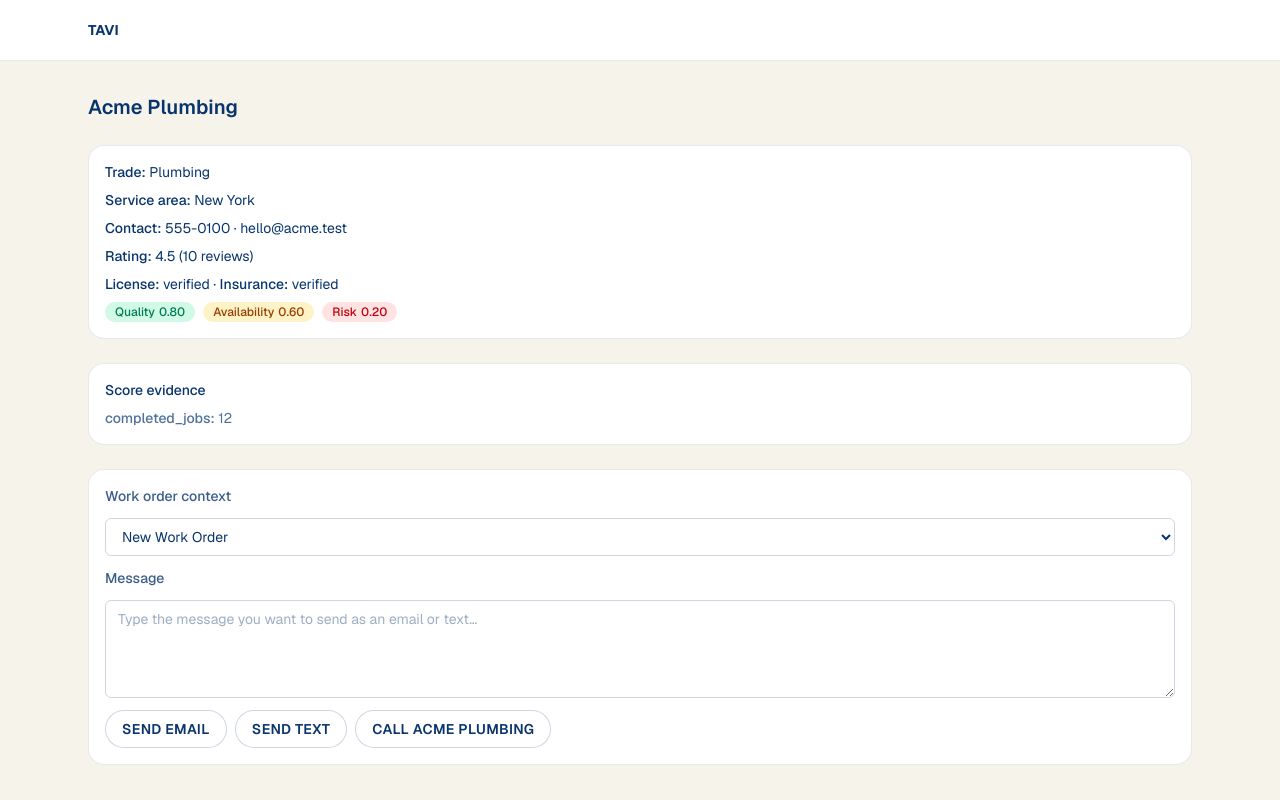
Test: VendorProfileView › sends a contact request and renders the resulting communication event
Check: the heading "Acme Plumbing" is shown, box top-left (88, 94), bottom-right (238, 120)
Step 1. Select "Fix leak" in the dropdown labelled "Work order context" → (640, 537), box top-left (105, 518), bottom-right (1175, 556)
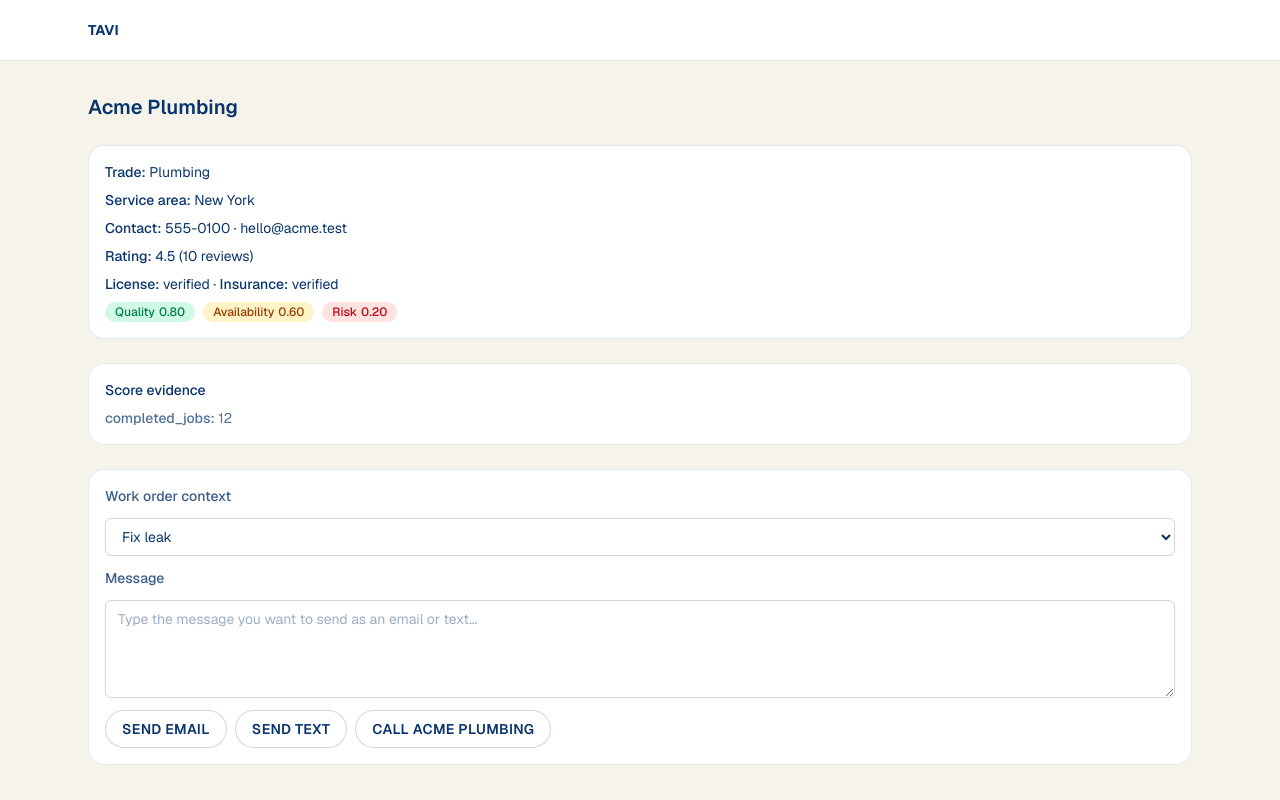
Step 2. Type "Outreach via email regarding work order." into the text box labelled "Message" → (640, 649), box top-left (105, 600), bottom-right (1175, 698)
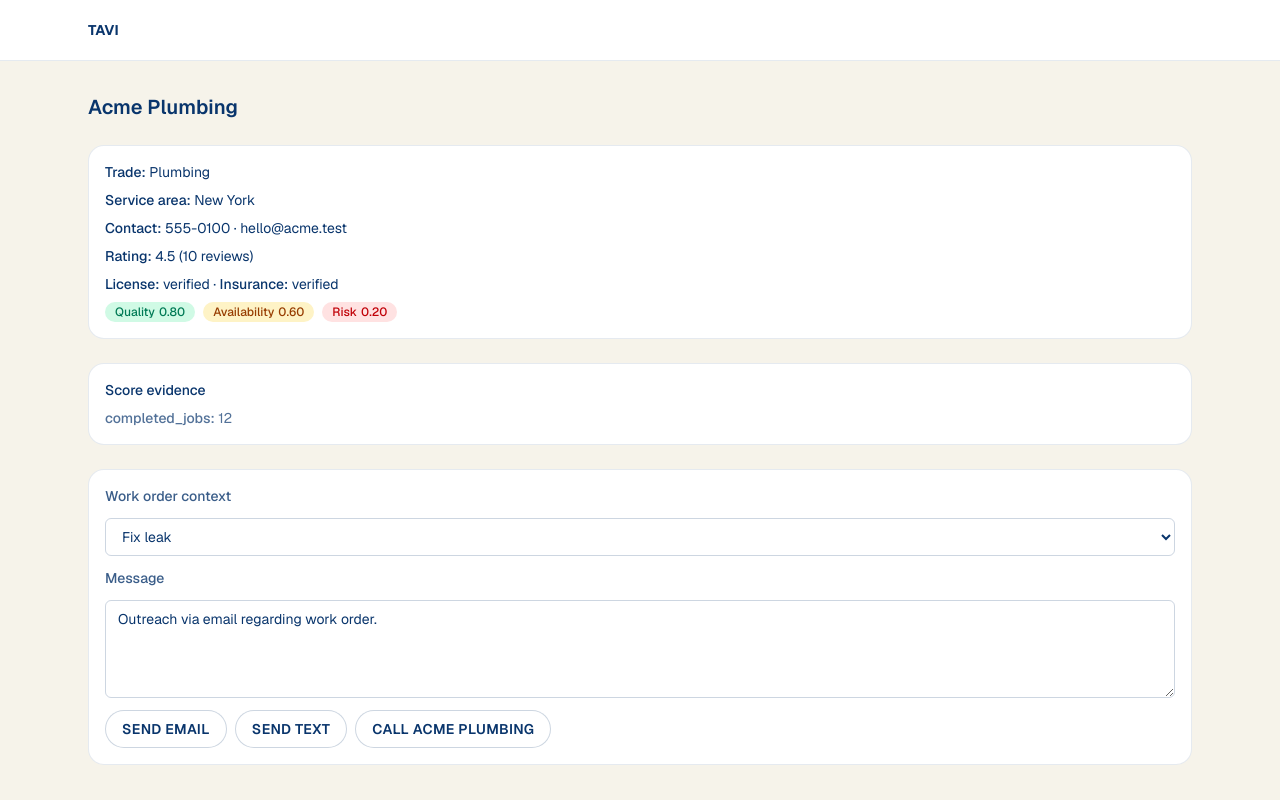
Step 3. Click the button "Send email" → (166, 729), box top-left (105, 710), bottom-right (227, 748)
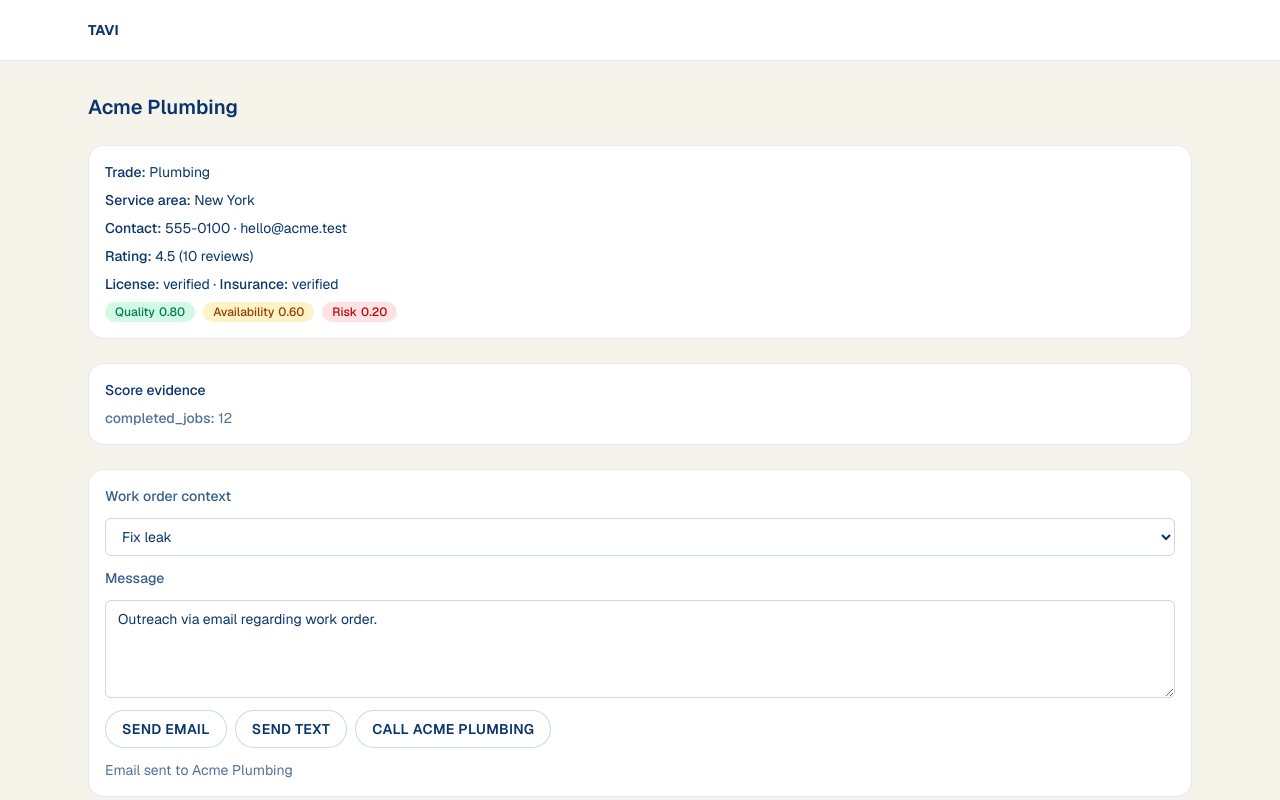
Check: the text "Email sent to Acme Plumbing" is shown, box top-left (105, 761), bottom-right (293, 779)
